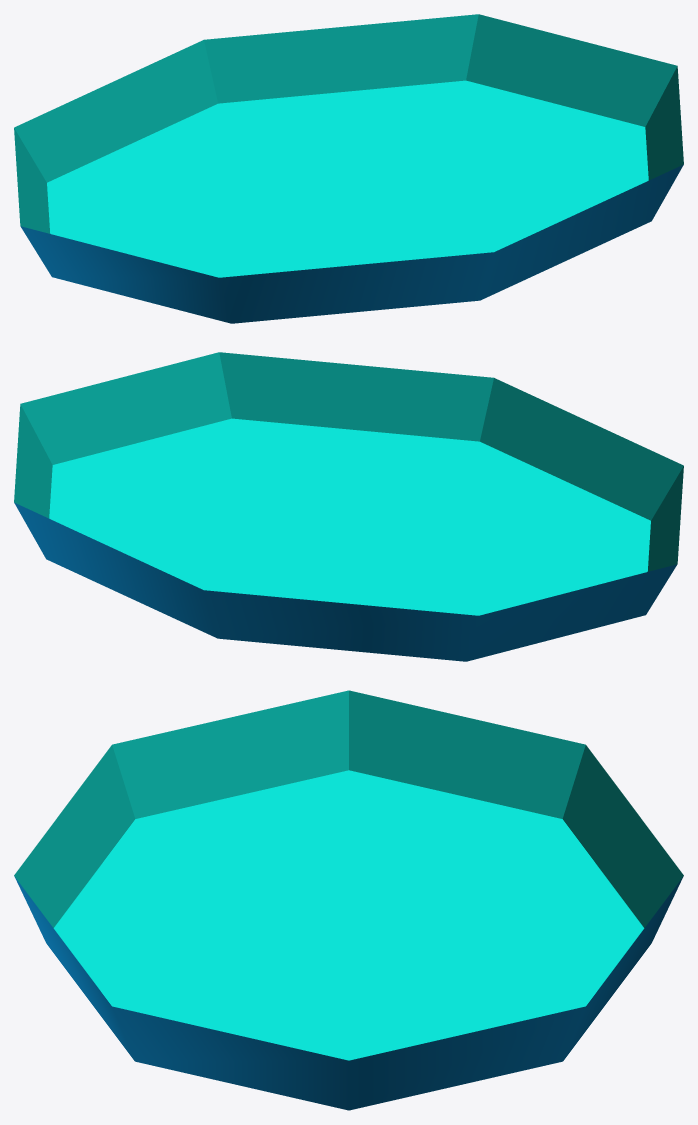
The model's file is Serving_Platter2.fbx.
The picture shows the model from 3 angles, top to bottom: view 1: azimuth 30°, elevation 25°; view 2: azimuth 150°, elevation 25°; view 3: azimuth 270°, elevation 25°; orthographic projection. The views are drawn at different scales.
Visible parts, largest first — view 1: Serving_Platter2; view 2: Serving_Platter2; view 3: Serving_Platter2.
Boxes of the visible parts, x1=… form: Serving_Platter2: x1=14, y1=14, x2=683, y2=323; Serving_Platter2: x1=14, y1=352, x2=683, y2=661; Serving_Platter2: x1=14, y1=690, x2=683, y2=1110.
Size of the model in its own units: 54.82 by 4.68 by 41.92.
